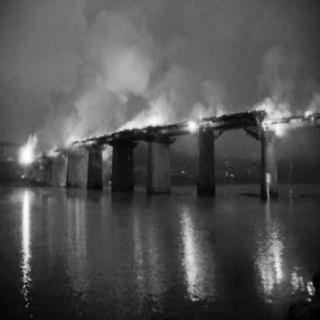Fire: (18, 76, 316, 180)
Smoke: (63, 17, 179, 105)
